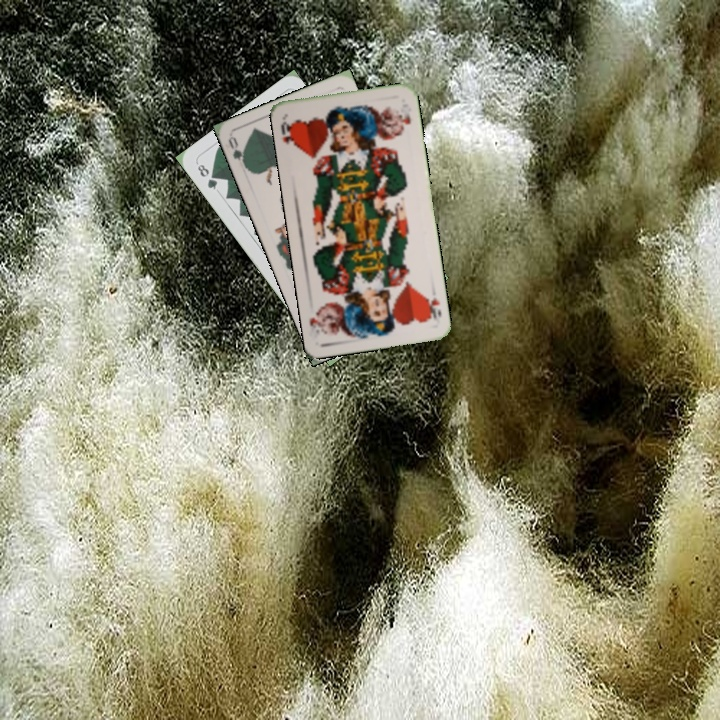G8: (193, 160, 220, 192)
GO: (224, 133, 251, 172)
HO: (422, 292, 444, 324), (277, 117, 298, 148)
